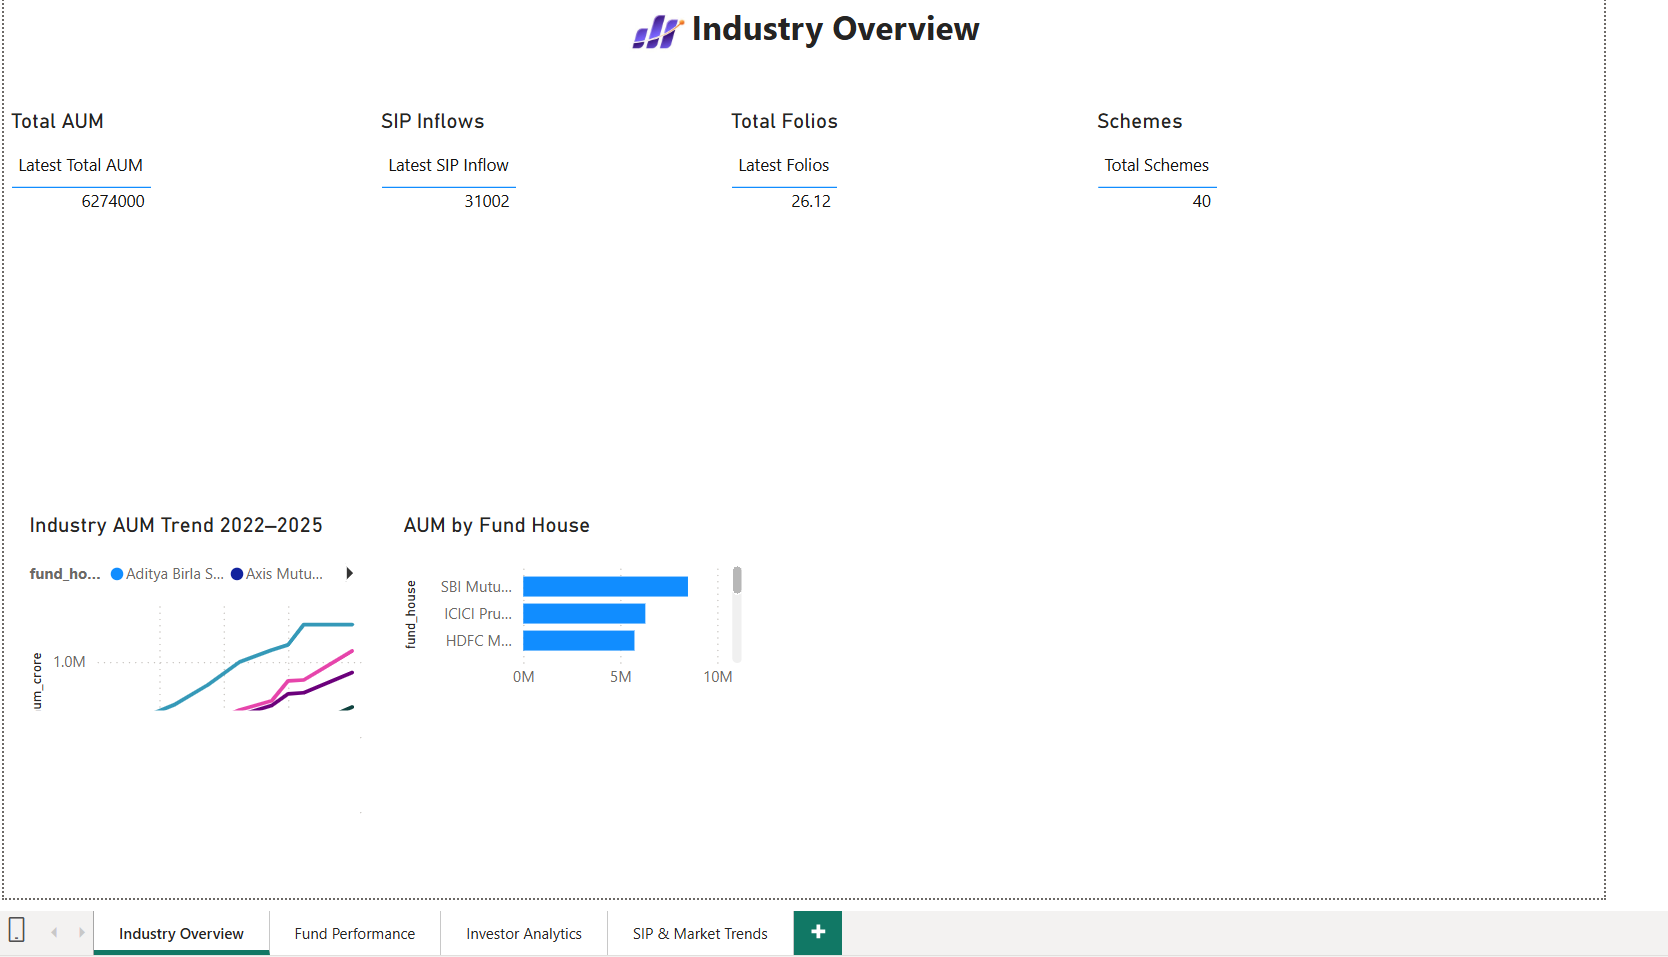

This screenshot's page, from the dashboard's own definition file:
{"tool":"powerbi","page":{"name":"Industry Overview","canvas":[1280,720],"ordinal":0},"visuals":[{"type":"tableEx","title":"Total AUM","fields":{"Values":["DateTable.Latest Total AUM"]},"box":[0,88,281.2,279.7],"z":0},{"type":"tableEx","title":"SIP Inflows","fields":{"Values":["DateTable.Latest SIP Inflow"]},"box":[296.2,88,280,280],"z":1000},{"type":"tableEx","title":"Total Folios","fields":{"Values":["DateTable.Latest Folios"]},"box":[576.3,88,280,280],"z":2000},{"type":"tableEx","title":"Schemes","fields":{"Values":["DateTable.Total Schemes"]},"box":[868.8,88,280,280],"z":3000},{"type":"lineChart","title":"Industry AUM Trend 2022–2025","fields":{"Category":["aum_by_fund_house.date"],"Y":["Sum(aum_by_fund_house.aum_crore)"],"Series":["aum_by_fund_house.fund_house"]},"box":[14.9,411.5,281,280],"z":4000},{"type":"clusteredBarChart","title":"AUM by Fund House","fields":{"Category":["aum_by_fund_house.fund_house"],"Y":["Sum(aum_by_fund_house.aum_crore)"]},"box":[313.6,411.5,281,150],"z":5000},{"type":"textbox","box":[0,570,281,150],"z":6000},{"type":"textbox","box":[380,570,281,150],"z":7000},{"type":"textbox","box":[1034,299,150,280],"z":8000},{"type":"textbox","box":[490.8,0,348.3,65.7],"z":9000},{"type":"image","box":[490.8,0,64.4,54.5],"z":9001}]}

Visuals, with their boxes on the page's 1280x720 design canvas (x1, y1, x2, y2). These are canvas units, not pixel positions in the 1668x957 screenshot, which may show the page scaled, cropped or inside an application window:
"Total AUM" tableEx: <region>0, 88, 281, 368</region>
"SIP Inflows" tableEx: <region>296, 88, 576, 368</region>
"Total Folios" tableEx: <region>576, 88, 856, 368</region>
"Schemes" tableEx: <region>869, 88, 1149, 368</region>
"Industry AUM Trend 2022–2025" lineChart: <region>15, 412, 296, 692</region>
"AUM by Fund House" clusteredBarChart: <region>314, 412, 595, 562</region>
textbox: <region>0, 570, 281, 720</region>
textbox: <region>380, 570, 661, 720</region>
textbox: <region>1034, 299, 1184, 579</region>
textbox: <region>491, 0, 839, 66</region>
image: <region>491, 0, 555, 54</region>
